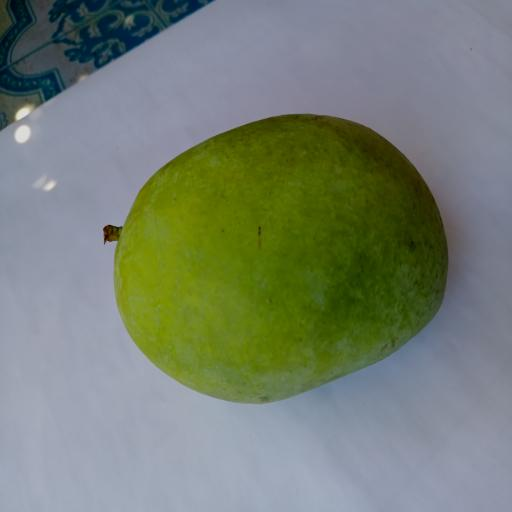mango-unripe: (81, 95, 458, 409)
